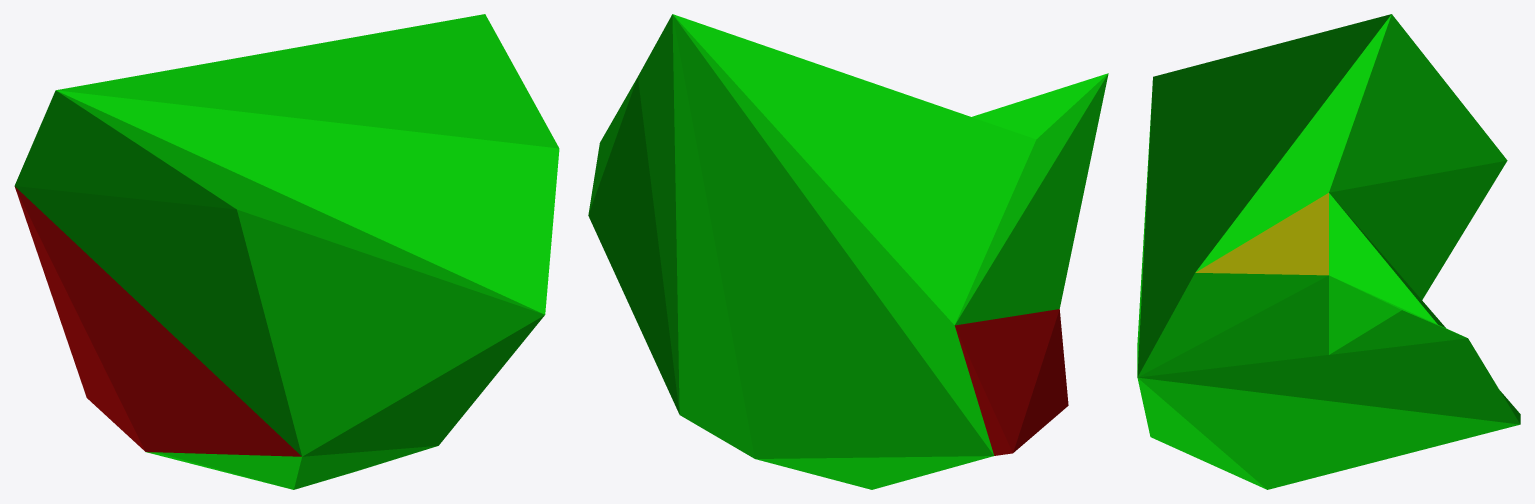
3 views of the same model, side by side, from view 1: azimuth 30°, elevation 25°; view 2: azimuth 150°, elevation 25°; view 3: azimuth 270°, elevation 25° (orthographic). The views are drawn at different scales.
Size of the model in its own units: 4.64 by 3.94 by 3.68.
